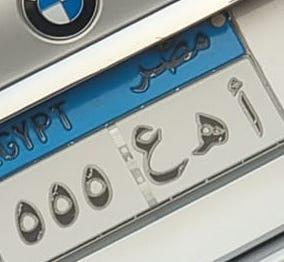5: (11, 199, 47, 248), (43, 180, 80, 226), (81, 164, 114, 212)
ain: (130, 124, 190, 187)
alif: (227, 77, 267, 140)
haa: (189, 108, 229, 159)
